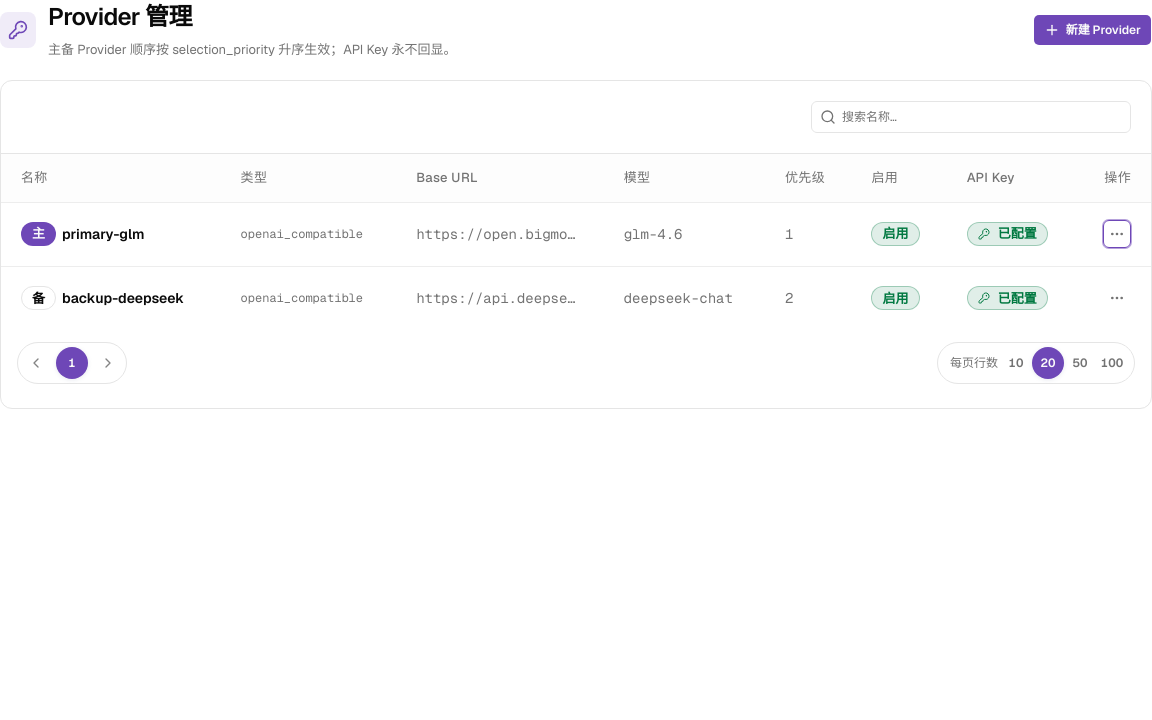
Test: gate: Secret永不回填 › never prefills the provider API key and shows the configured state instead
Press Enter
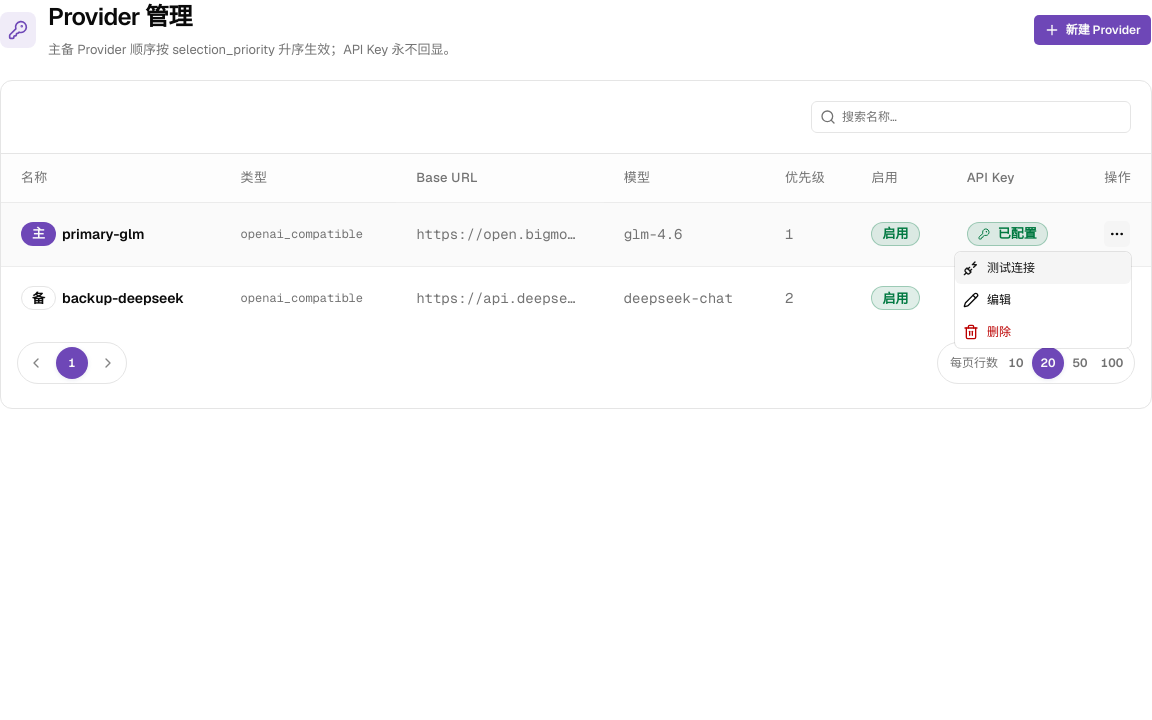
Click the menu item "编辑".
click(987, 300)  # box [963,292,1011,308]
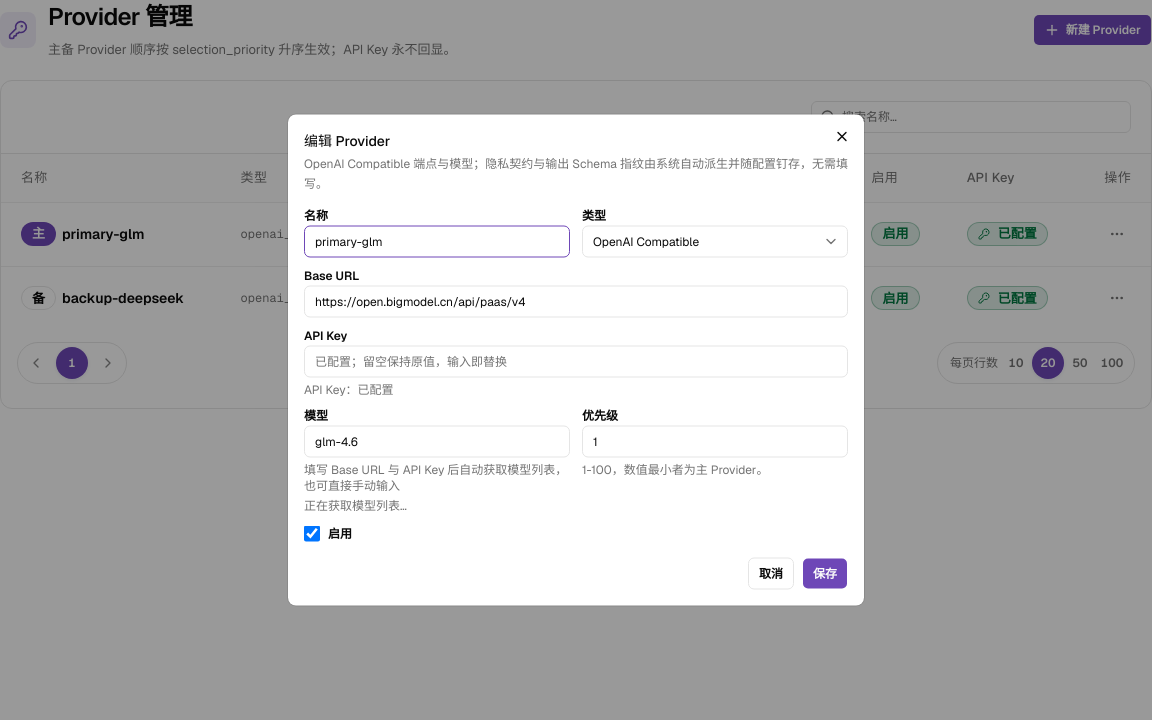
Check: the password field with test id "provider-api-key" is empty, box [304,346,848,378]
Check: the text "API Key：已配置" is shown, box [304,382,394,398]
